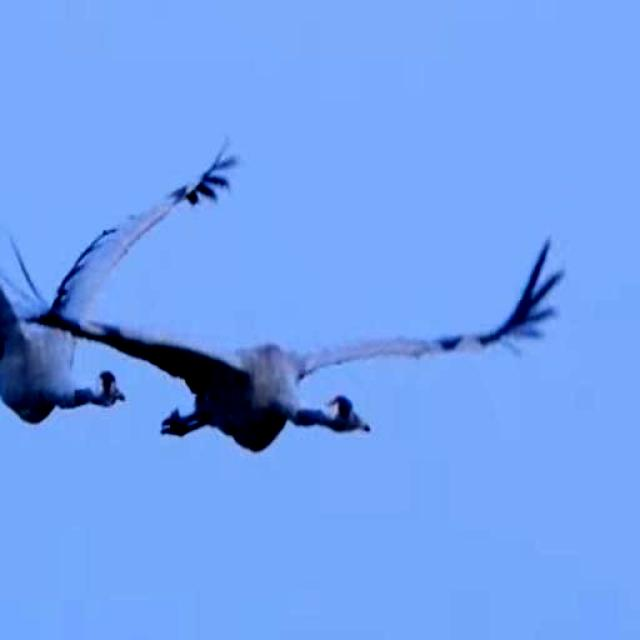airplane: (62, 252, 576, 465), (0, 84, 234, 429)
